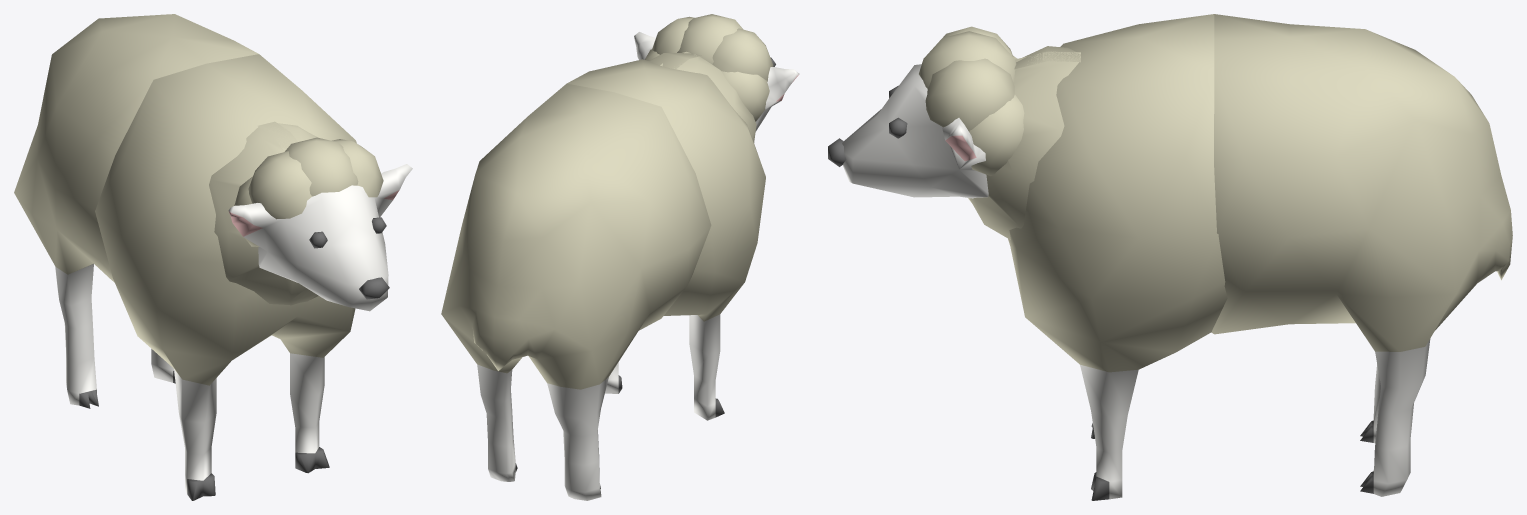
The model's file is NOVELO_SHEEP.gltf.
3 views of the same model, side by side, from view 1: azimuth 30°, elevation 25°; view 2: azimuth 150°, elevation 25°; view 3: azimuth 270°, elevation 25° (orthographic). The views are drawn at different scales.
Parts seen in each view (by area): view 1: node-0; view 2: node-0; view 3: node-0.
Part boxes in pixels (x1,y1,x2,y2): node-0: [14, 14, 412, 500]; node-0: [441, 14, 799, 500]; node-0: [828, 14, 1512, 500].
Bounding box in the file's own units: 338 × 528 × 766.
